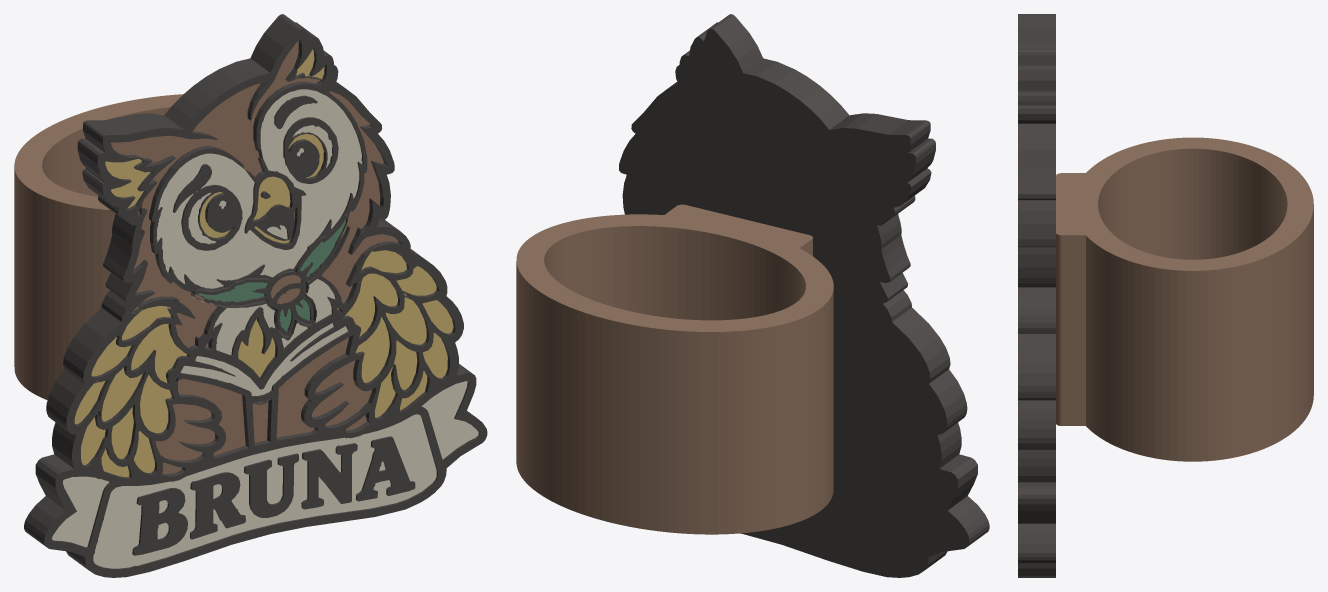
File: anilha-coruja-bruna-v4-montada.glb
3 views of the same model, side by side, from view 1: azimuth 30°, elevation 25°; view 2: azimuth 150°, elevation 25°; view 3: azimuth 270°, elevation 25° (orthographic). The views are drawn at different scales.
Visible parts, largest first — view 1: preto, creme, anilha-castanha, dourado, castanho, lenco-preto, lenco-verde, no-castanho; view 2: anilha-castanha, preto; view 3: anilha-castanha, preto.
Boxes of the visible parts, bbox=[...] form: preto: bbox=[24, 14, 487, 577]; creme: bbox=[52, 89, 478, 568]; anilha-castanha: bbox=[14, 94, 183, 399]; dourado: bbox=[74, 49, 453, 477]; castanho: bbox=[97, 41, 407, 473]; lenco-preto: bbox=[191, 214, 348, 335]; lenco-verde: bbox=[198, 219, 346, 331]; no-castanho: bbox=[191, 216, 349, 303]; anilha-castanha: bbox=[516, 204, 833, 534]; preto: bbox=[619, 14, 989, 577]; anilha-castanha: bbox=[1056, 137, 1313, 461]; preto: bbox=[1018, 14, 1055, 577].
Bounding box in the file's own units: 45.82 × 49.96 × 28.1.
